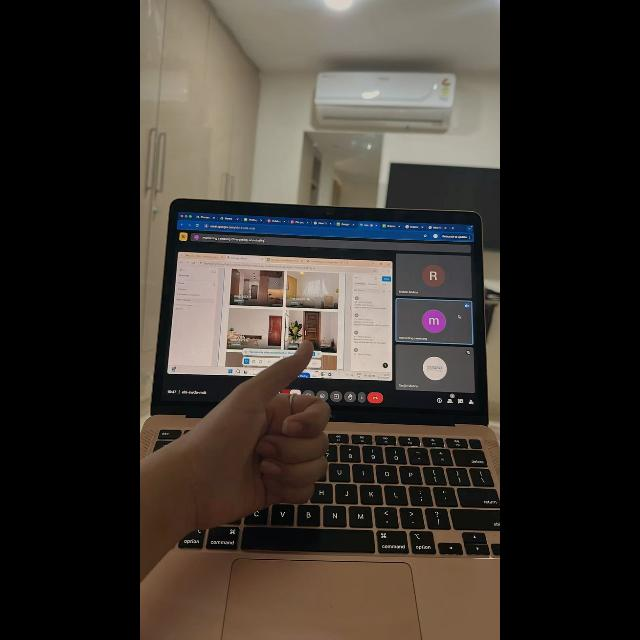laptop: (140, 198, 500, 640)
